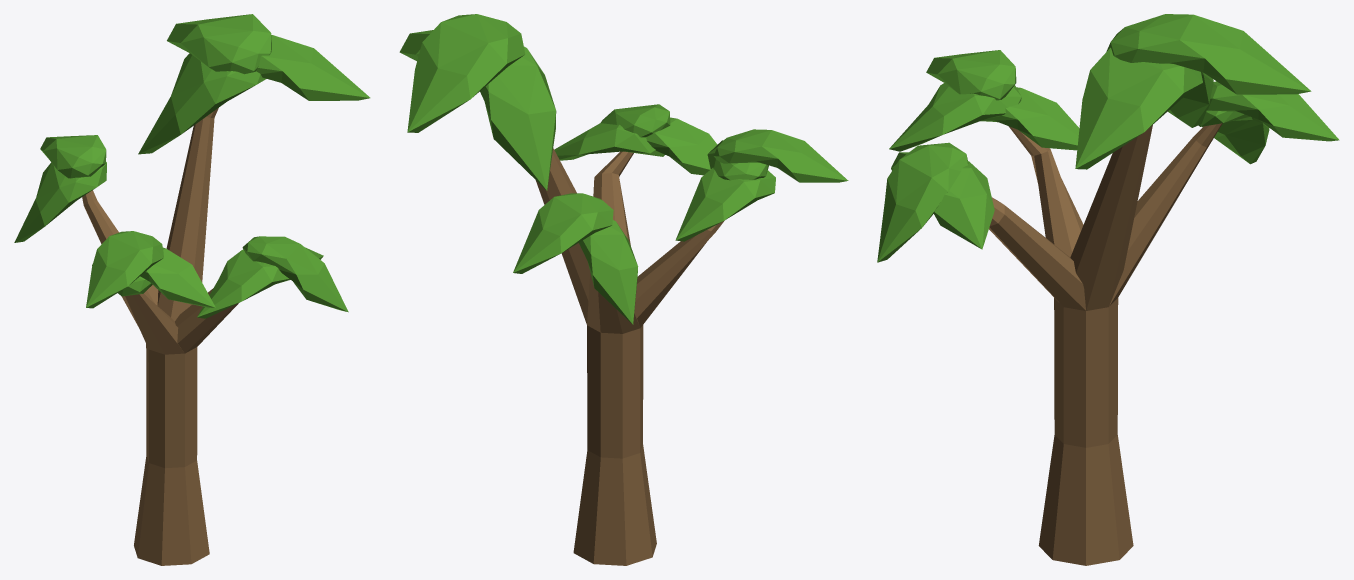
Rendered from Agac002.fbx.
3 views of the same model, side by side, from view 1: azimuth 30°, elevation 25°; view 2: azimuth 150°, elevation 25°; view 3: azimuth 270°, elevation 25° (orthographic). The views are drawn at different scales.
Parts seen in each view (by area): view 1: Agac002, Cube, Cube.001, Cube.002, Cube.006, Cube.004, Cube.010, Cube.005, Cube.008, Cube.009; view 2: Agac002, Cube.001, Cube, Cube.009, Cube.006, Cube.010, Cube.007, Cube.005, Cube.003, Cube.004, Cube.008; view 3: Agac002, Cube.001, Cube.002, Cube.004, Cube.009, Cube.008, Cube.003, Cube.006, Cube.007, Cube.010, Cube.
Boxes of the visible parts, x1=… form: Agac002: x1=82, y1=108, x2=238, y2=565; Cube: x1=138, y1=53, x2=266, y2=154; Cube.001: x1=167, y1=14, x2=271, y2=74; Cube.002: x1=256, y1=35, x2=370, y2=100; Cube.006: x1=86, y1=231, x2=163, y2=308; Cube.004: x1=242, y1=236, x2=348, y2=312; Cube.010: x1=14, y1=162, x2=106, y2=242; Cube.005: x1=197, y1=249, x2=290, y2=318; Cube.008: x1=140, y1=247, x2=215, y2=307; Cube.009: x1=40, y1=135, x2=106, y2=178; Agac002: x1=535, y1=148, x2=724, y2=565; Cube.001: x1=407, y1=14, x2=525, y2=132; Cube: x1=480, y1=46, x2=556, y2=190; Cube.009: x1=513, y1=193, x2=613, y2=273; Cube.006: x1=713, y1=129, x2=848, y2=182; Cube.010: x1=579, y1=220, x2=638, y2=324; Cube.007: x1=675, y1=167, x2=775, y2=241; Cube.005: x1=646, y1=117, x2=717, y2=175; Cube.003: x1=554, y1=123, x2=664, y2=160; Cube.004: x1=600, y1=104, x2=670, y2=137; Cube.008: x1=707, y1=140, x2=768, y2=180; Agac002: x1=989, y1=123, x2=1222, y2=565; Cube.001: x1=1106, y1=14, x2=1311, y2=94; Cube.002: x1=1075, y1=47, x2=1202, y2=169; Cube.004: x1=877, y1=142, x2=968, y2=262; Cube.009: x1=1207, y1=81, x2=1339, y2=141; Cube.008: x1=889, y1=83, x2=1021, y2=151; Cube.003: x1=933, y1=161, x2=994, y2=249; Cube.006: x1=926, y1=50, x2=1016, y2=100; Cube.007: x1=980, y1=87, x2=1079, y2=150; Cube.010: x1=1198, y1=110, x2=1269, y2=164; Cube: x1=1168, y1=72, x2=1213, y2=127.
Size of the model in its own units: 1.89 by 1.83 by 2.51.
